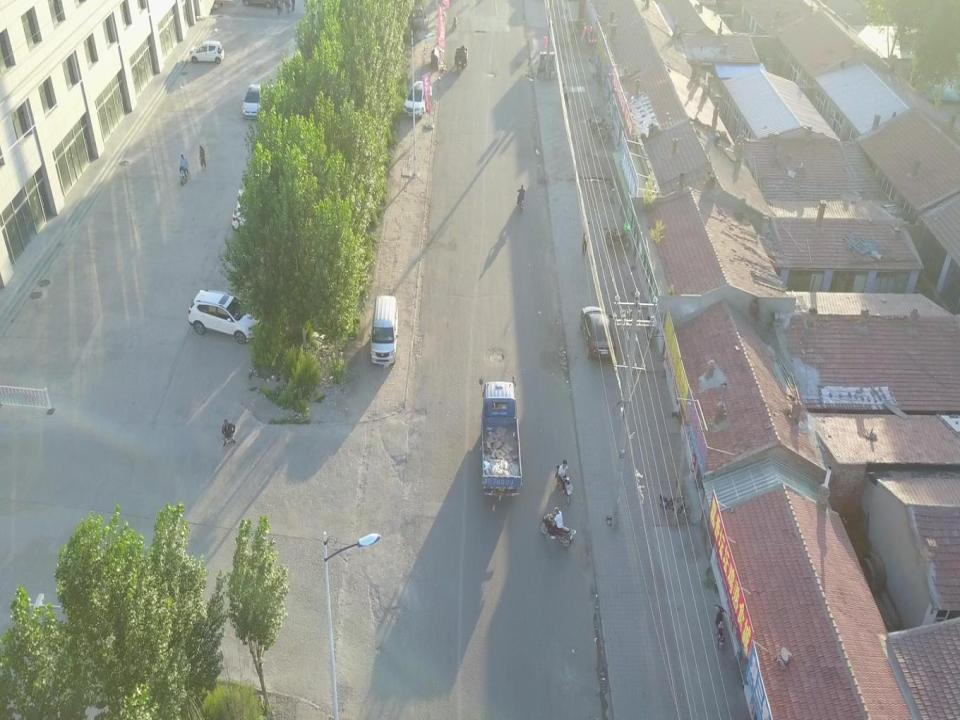car: (187, 291, 262, 340), (233, 191, 291, 235), (582, 307, 612, 359), (404, 76, 430, 118), (242, 84, 270, 116), (189, 40, 223, 63)
truck: (482, 378, 522, 495)
van: (370, 296, 394, 365)
